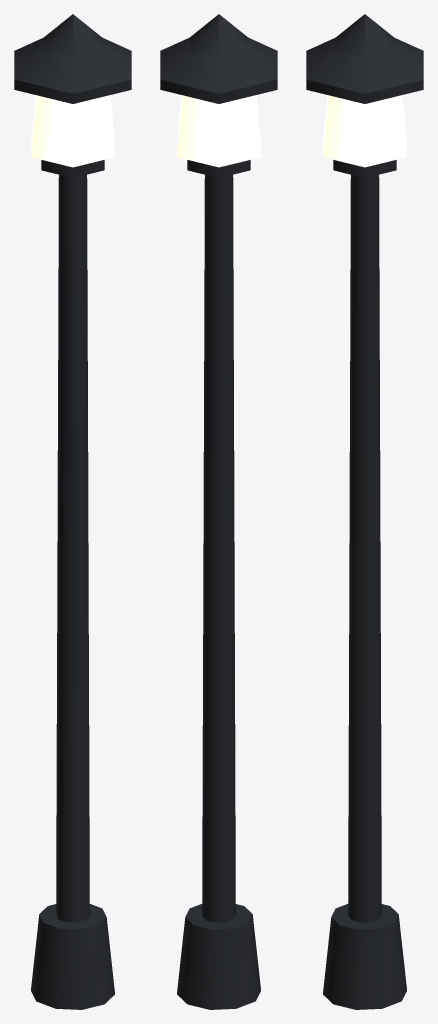
The model's file is lamp_post.glb.
3 renders of one model, left to right at view 1: azimuth 30°, elevation 25°; view 2: azimuth 150°, elevation 25°; view 3: azimuth 330°, elevation 25°, orthographic.
Parts seen in each view (by area): view 1: main, bulb; view 2: main, bulb; view 3: main, bulb.
Part boxes in pixels (bbox=[...]): main: bbox=[14, 14, 131, 1009]; bulb: bbox=[31, 95, 114, 167]; main: bbox=[160, 14, 277, 1009]; bulb: bbox=[177, 95, 260, 167]; main: bbox=[306, 14, 423, 1009]; bulb: bbox=[323, 95, 406, 167].
Bounding box in the file's own units: 0.48 × 3.82 × 0.4157.
